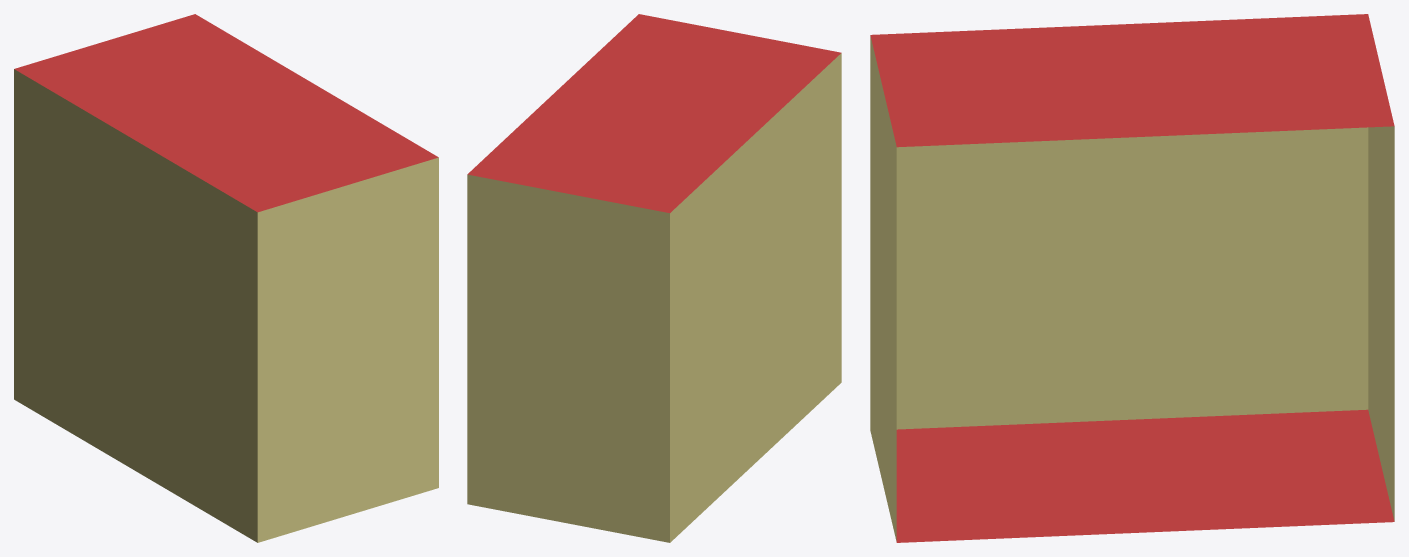
3 renders of one model, left to right at view 1: azimuth 30°, elevation 25°; view 2: azimuth 150°, elevation 25°; view 3: azimuth 270°, elevation 25°, orthographic. The views are drawn at different scales.
Size of the model in its own units: 4.04 by 6.71 by 5.59.
